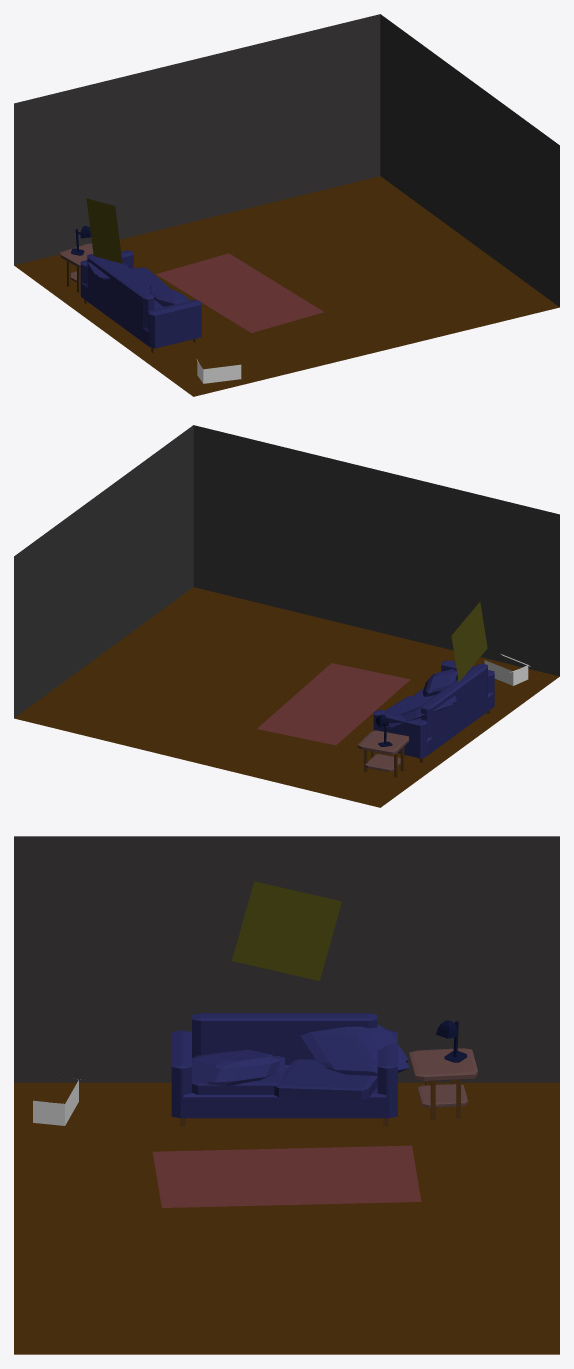
Rendered from room.glb.
3 renders of one model, top to bottom at view 1: azimuth 30°, elevation 25°; view 2: azimuth 150°, elevation 25°; view 3: azimuth 270°, elevation 25°, orthographic. The views are drawn at different scales.
Parts seen in each view (by area): view 1: Walls-col, Floor-col, Alfombra, Sofa-col, Cuadro, Cube, Cube.003, Cube.002; view 2: Walls-col, Floor-col, Alfombra, Sofa-col, Cuadro, Mesa-col, Cube, Cube.003; view 3: Floor-col, Walls-col, Alfombra, Sofa-col, Cuadro, Cube.004, Cube.002, Cube.003, Mesa-col, Cube.001, Cube, Cube.010.
Boxes of the visible parts, x1=… form: Walls-col: x1=14, y1=14, x2=559, y2=306; Floor-col: x1=14, y1=176, x2=559, y2=396; Alfombra: x1=156, y1=253, x2=324, y2=332; Sofa-col: x1=80, y1=250, x2=201, y2=348; Cuadro: x1=86, y1=198, x2=122, y2=263; Cube: x1=196, y1=359, x2=241, y2=383; Cube.003: x1=150, y1=285, x2=189, y2=306; Cube.002: x1=129, y1=267, x2=170, y2=292; Walls-col: x1=14, y1=425, x2=559, y2=717; Floor-col: x1=14, y1=587, x2=559, y2=807; Alfombra: x1=257, y1=663, x2=410, y2=745; Sofa-col: x1=373, y1=660, x2=494, y2=758; Cuadro: x1=451, y1=602, x2=487, y2=682; Mesa-col: x1=357, y1=730, x2=409, y2=754; Cube: x1=484, y1=654, x2=530, y2=685; Cube.003: x1=422, y1=669, x2=457, y2=696; Floor-col: x1=14, y1=1082, x2=559, y2=1354; Walls-col: x1=14, y1=836, x2=559, y2=1082; Alfombra: x1=152, y1=1145, x2=421, y2=1207; Sofa-col: x1=171, y1=1013, x2=397, y2=1118; Cuadro: x1=232, y1=881, x2=341, y2=980; Cube.004: x1=300, y1=1024, x2=409, y2=1075; Cube.002: x1=274, y1=1059, x2=377, y2=1099; Cube.003: x1=192, y1=1049, x2=280, y2=1086; Mesa-col: x1=409, y1=1048, x2=477, y2=1081; Cube.001: x1=192, y1=1056, x2=284, y2=1094; Cube: x1=33, y1=1079, x2=80, y2=1125; Cube.010: x1=417, y1=1084, x2=467, y2=1107.
Size of the model in its own units: 14.2 by 6 by 12.05.
